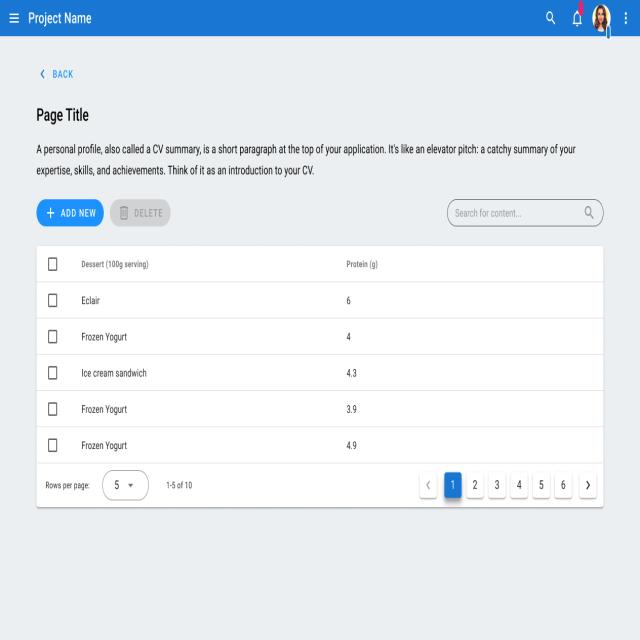QLabel: (35, 142, 577, 178), (28, 10, 92, 29), (36, 106, 90, 125), (59, 208, 96, 220), (132, 206, 163, 220), (51, 67, 75, 81)
VAppBar: (0, 0, 640, 37)
VBadge: (591, 4, 612, 34), (572, 2, 584, 28)
VBtn: (37, 198, 104, 228), (110, 198, 171, 228), (35, 62, 80, 86)
VDataTable: (36, 244, 605, 509)
VIcon: (544, 11, 560, 27), (8, 10, 21, 27), (118, 205, 130, 222), (46, 207, 55, 220), (39, 68, 46, 80), (624, 10, 628, 28)
VTextField: (446, 198, 604, 228)
